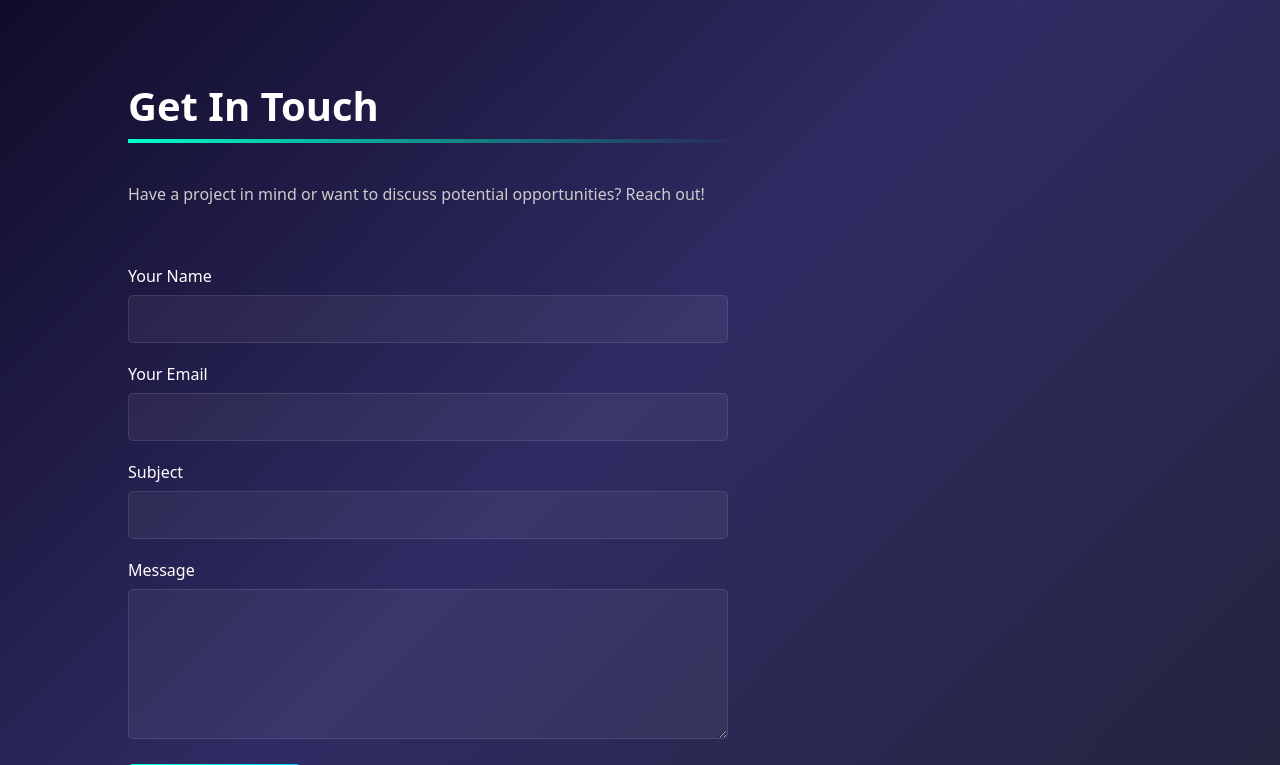
Test: ContactForm › displays error message when submission fails
Type "Test" into the field labelled "Your Name" at (428, 319), box [128,295,728,343]
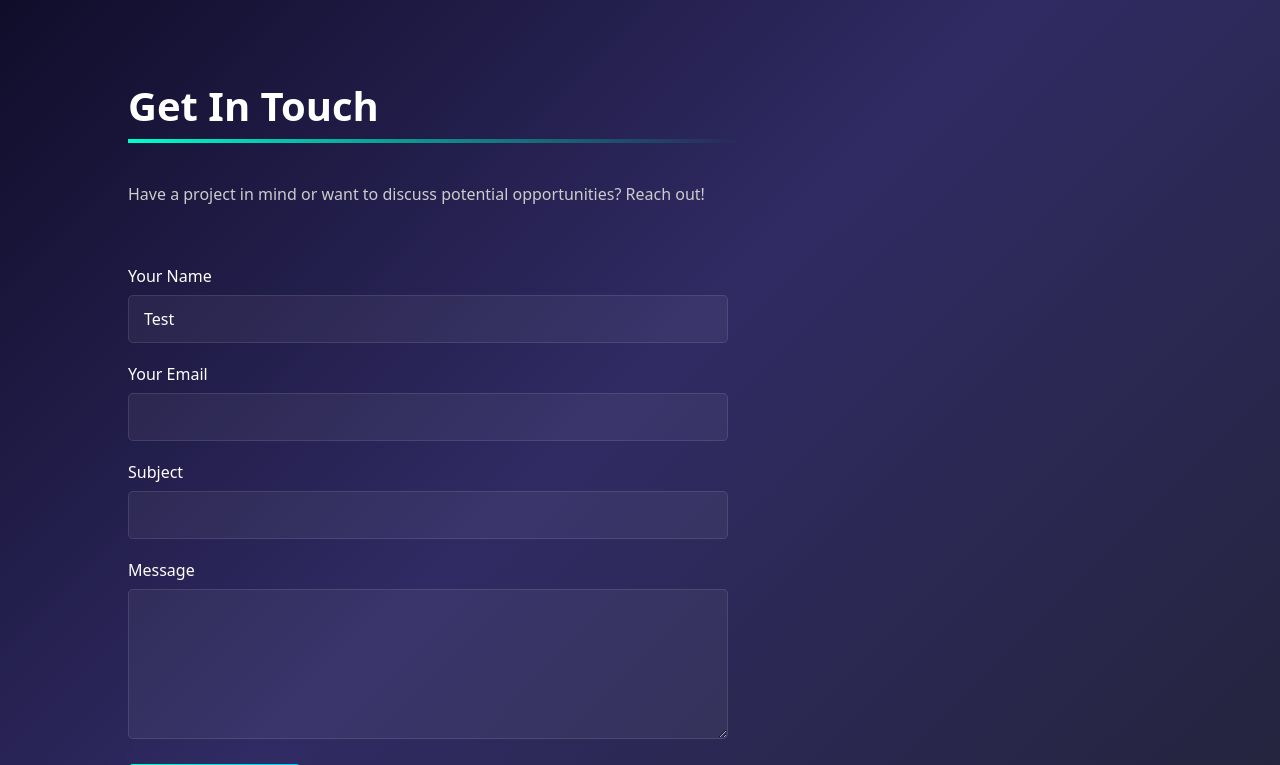
Type "test@test.com" into the field labelled "Your Email" at (428, 417), box [128,393,728,441]
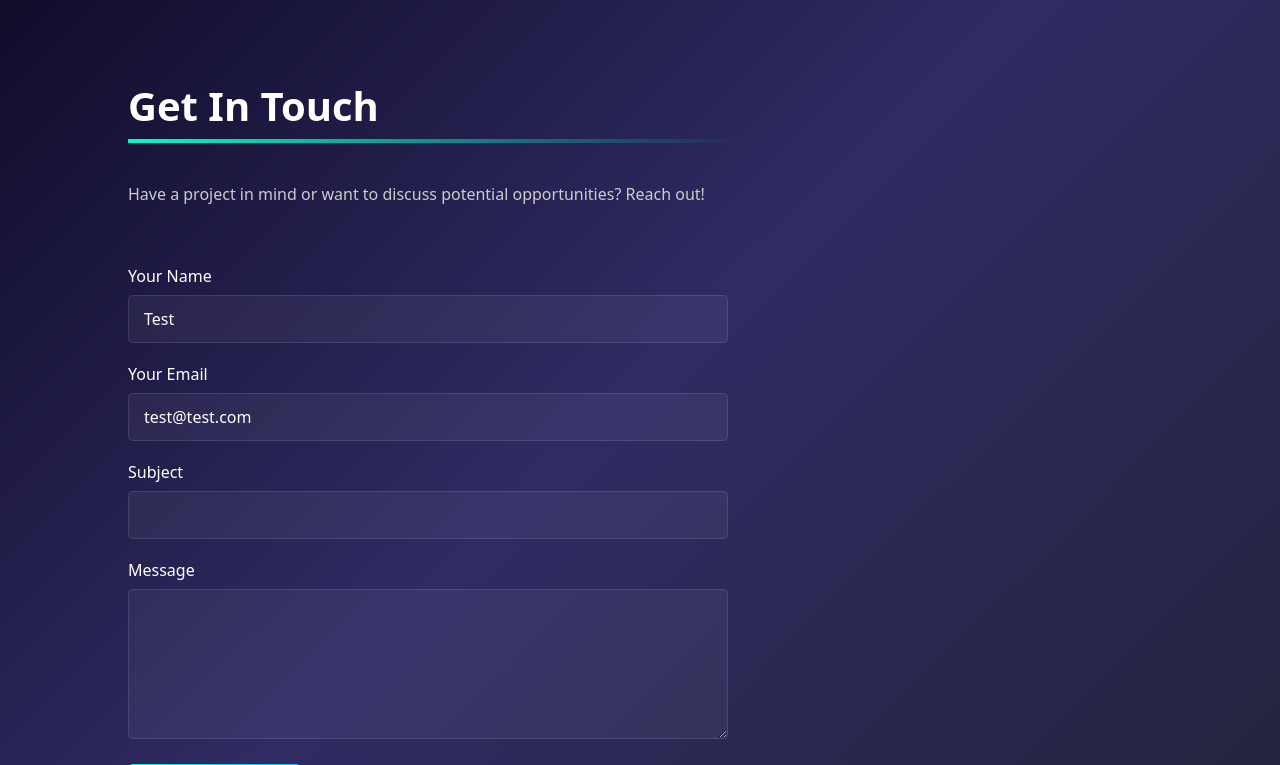
Type "Test Subject" into the field labelled "Subject" at (428, 515), box [128,491,728,539]
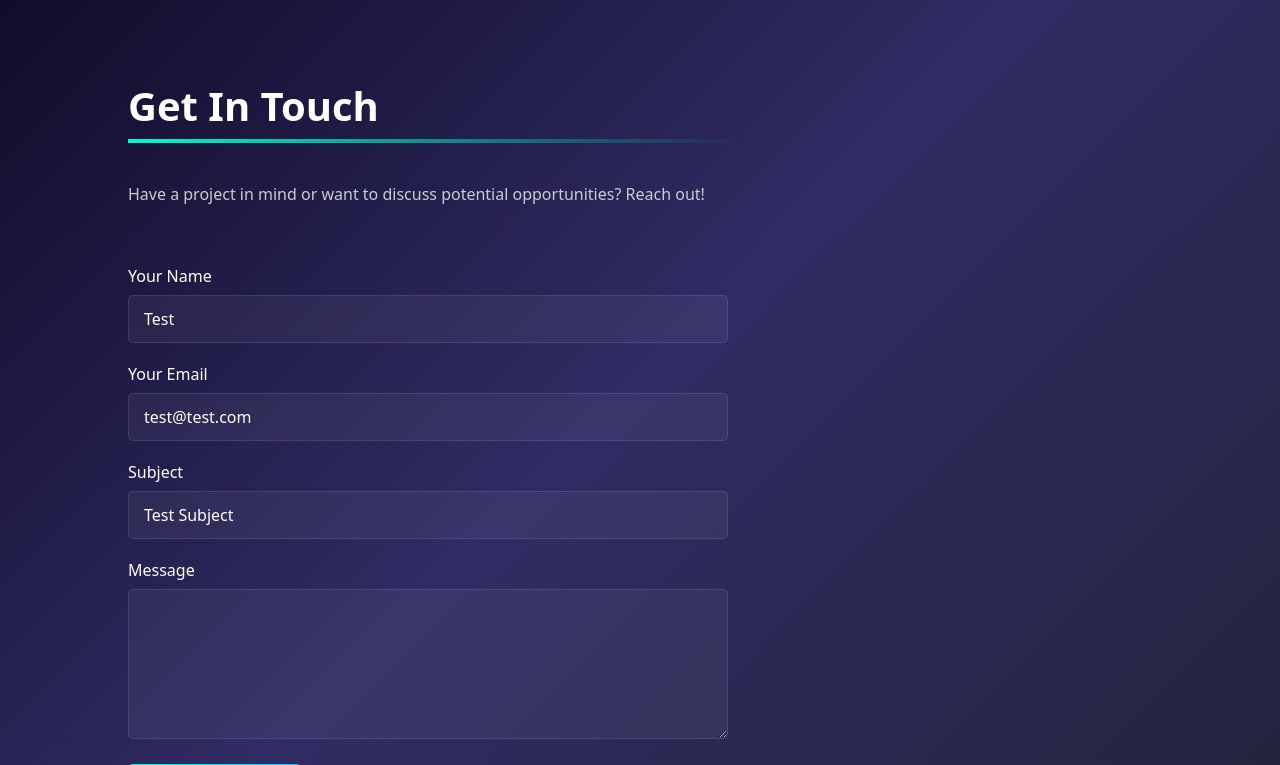
Type "Test message" into the text box labelled "Message" at (428, 664), box [128,589,728,739]
(page scrolled)
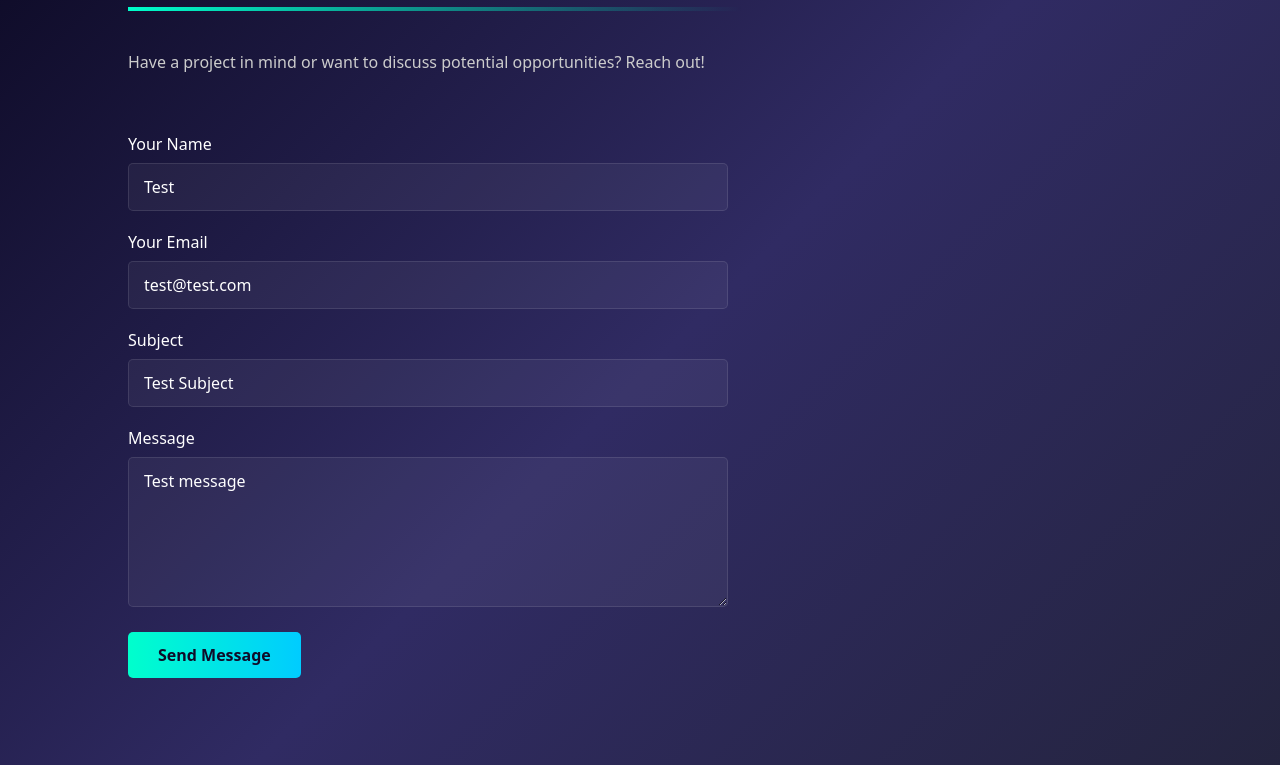
Click the button "Send Message" at (214, 655), box [128,632,301,678]
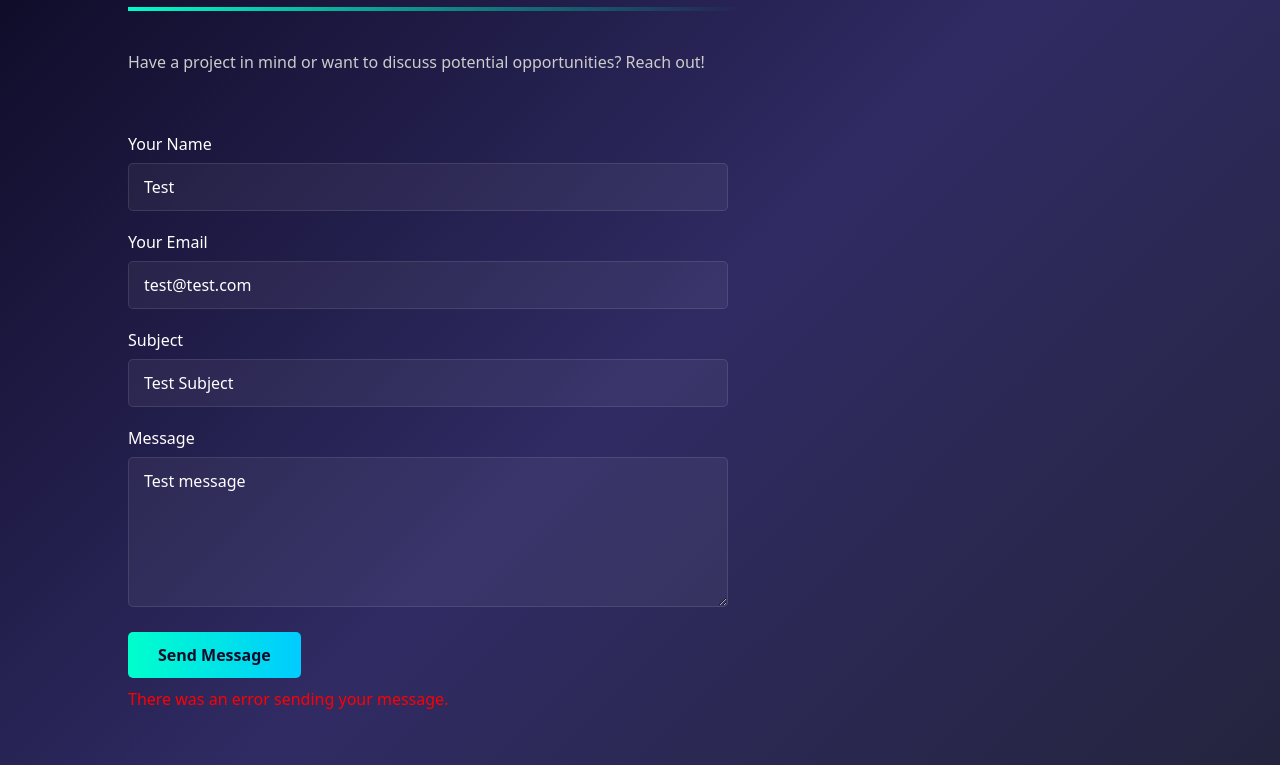
Expected: the text "There was an error sending your message." is shown, [128,688,448,710]
